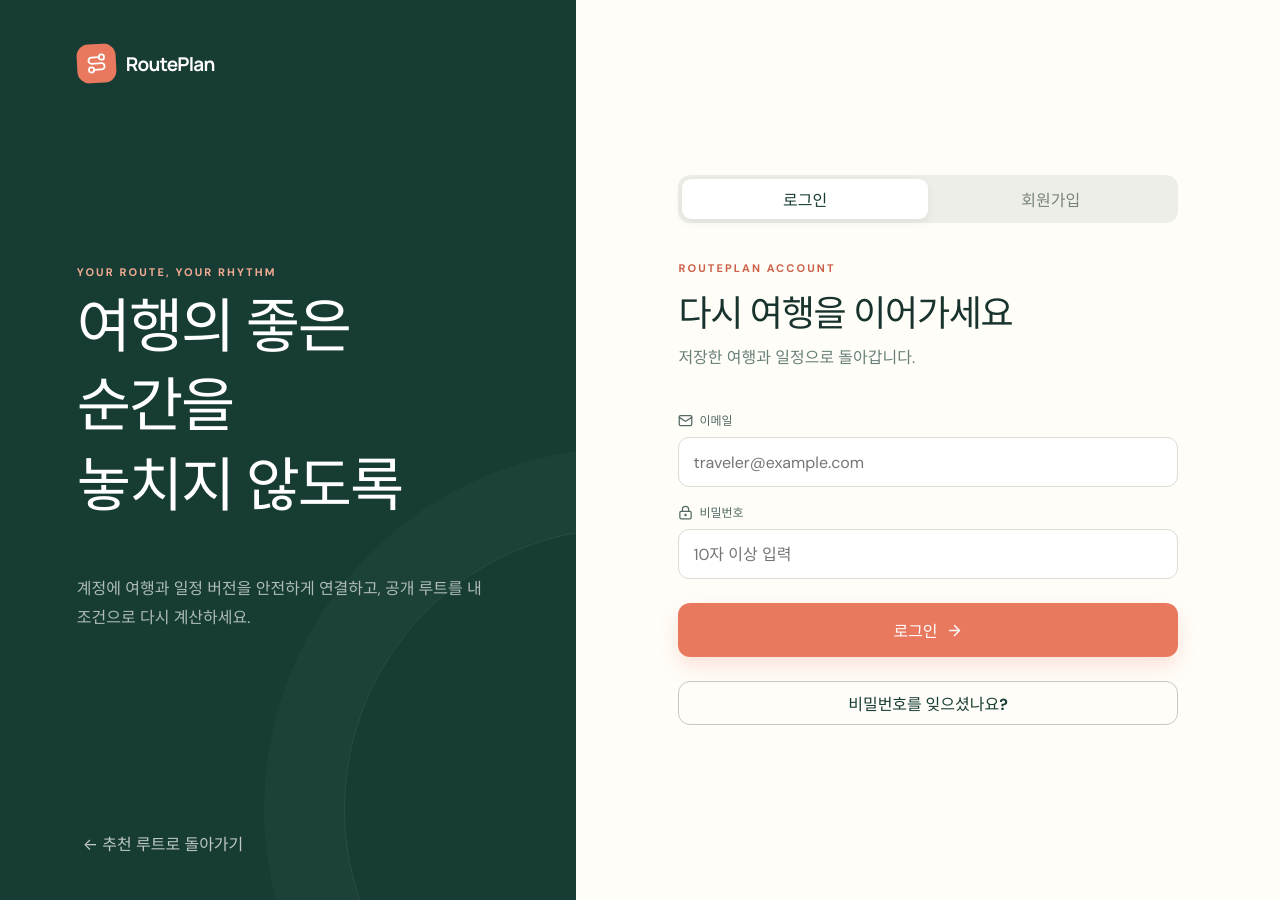
Test: account security screens › requests a recovery email and distinguishes the local development mailbox
Click the button "비밀번호를 잊으셨나요?" at (928, 703), box [678, 681, 1178, 725]
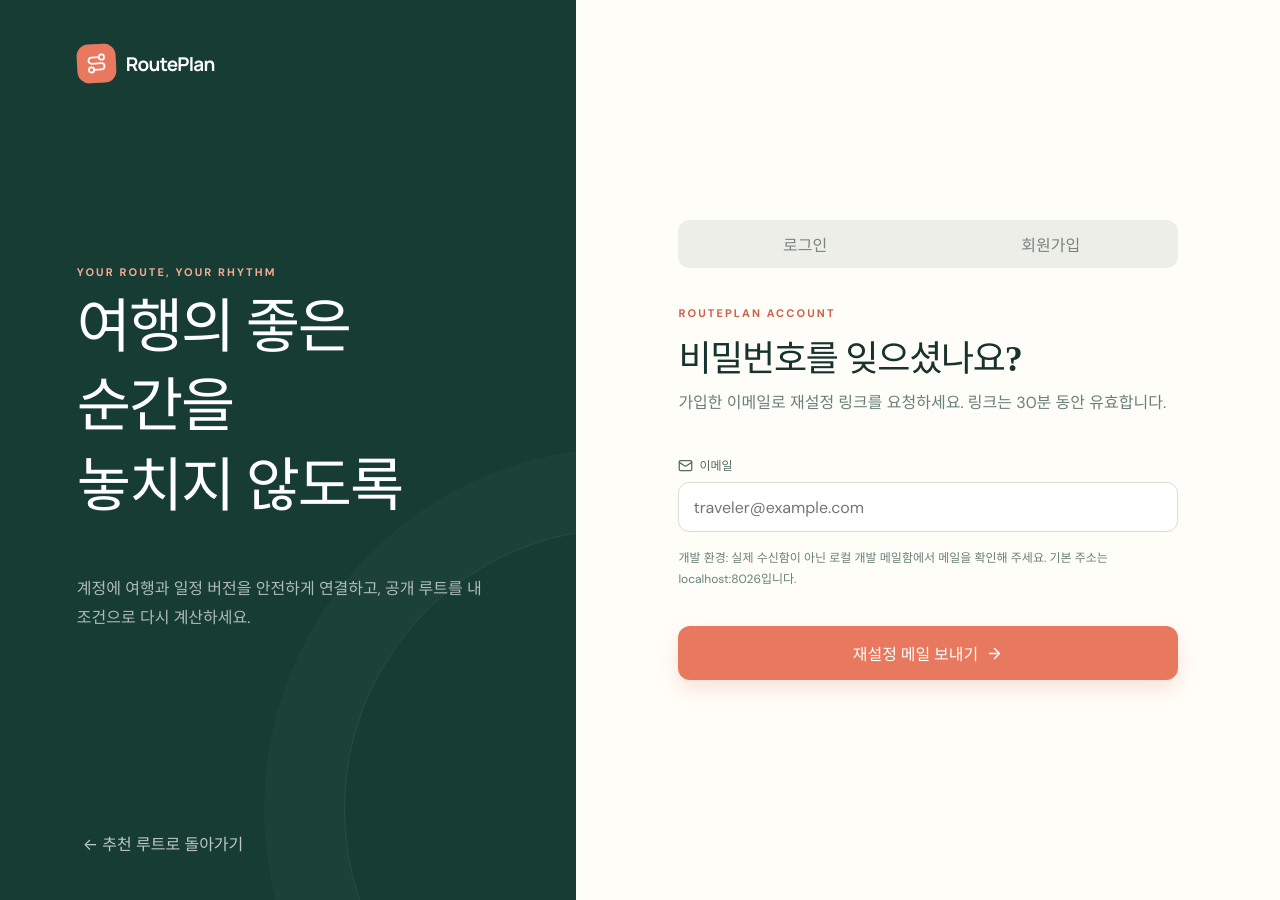
Result: the text "로컬 개발 메일함" is shown at [678, 550, 1108, 587]
Type "test@example.com" into the field labelled "이메일" at (928, 507), box [678, 482, 1178, 532]
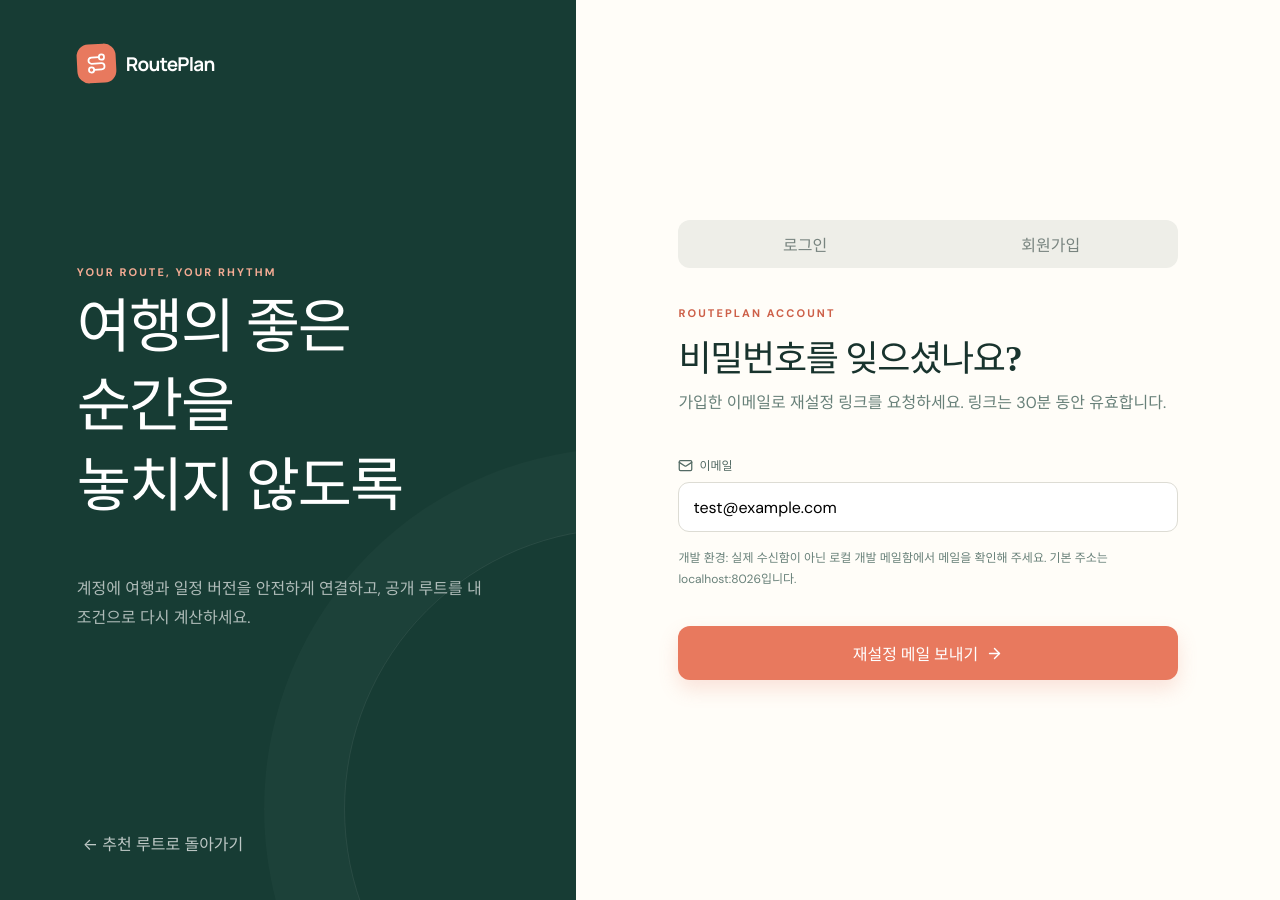
Click the button "재설정 메일 보내기" at (928, 653), box [678, 626, 1178, 680]
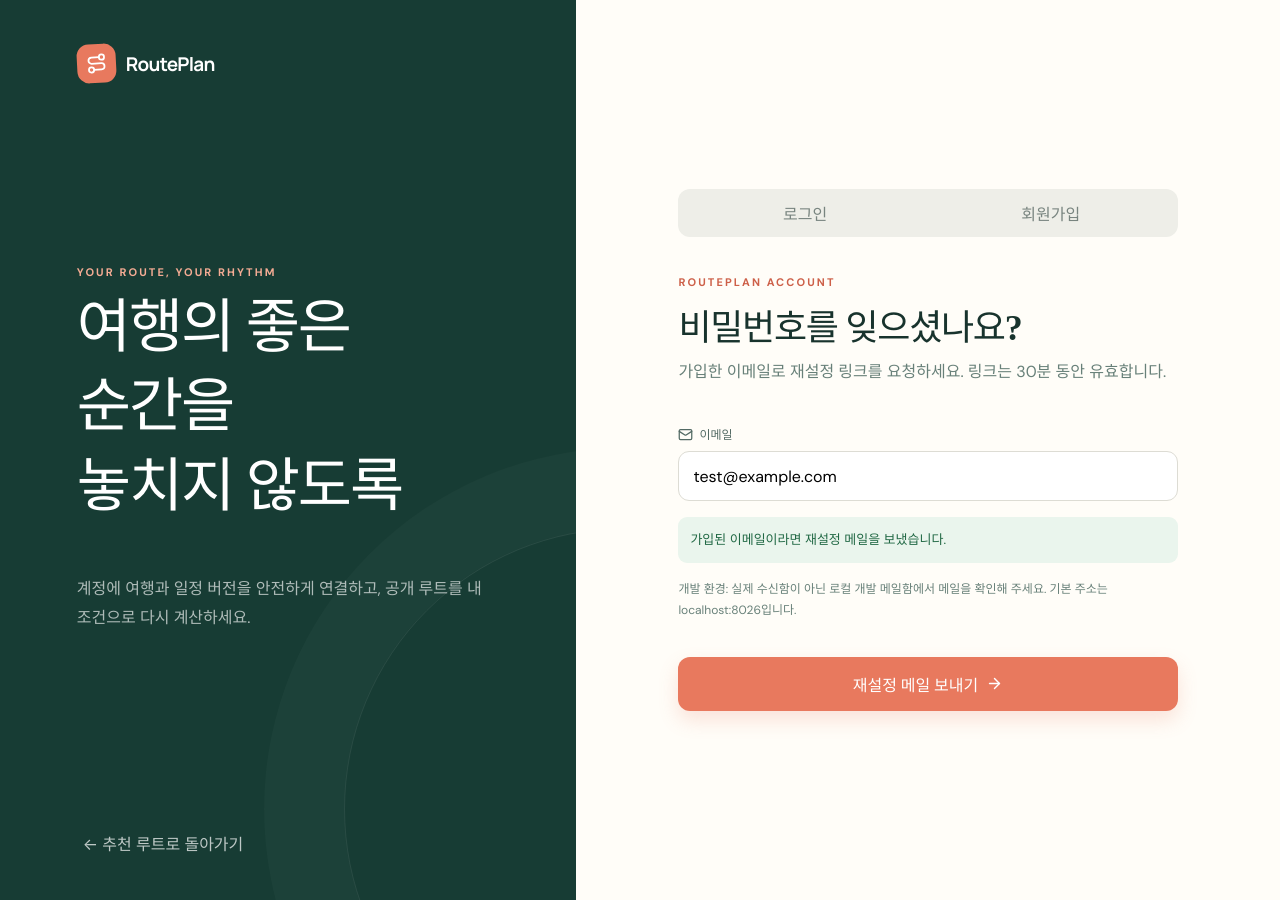
Result: the message shows "가입된 이메일이라면" at [690, 531, 946, 548]
